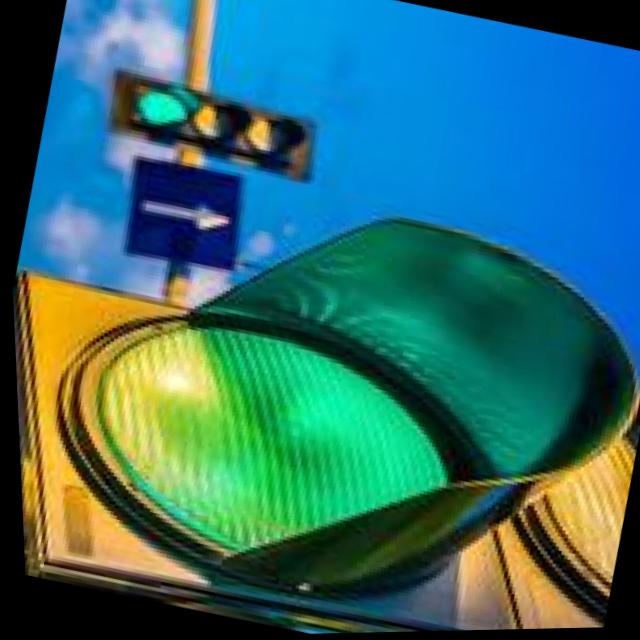green_light: (74, 169, 542, 639)
